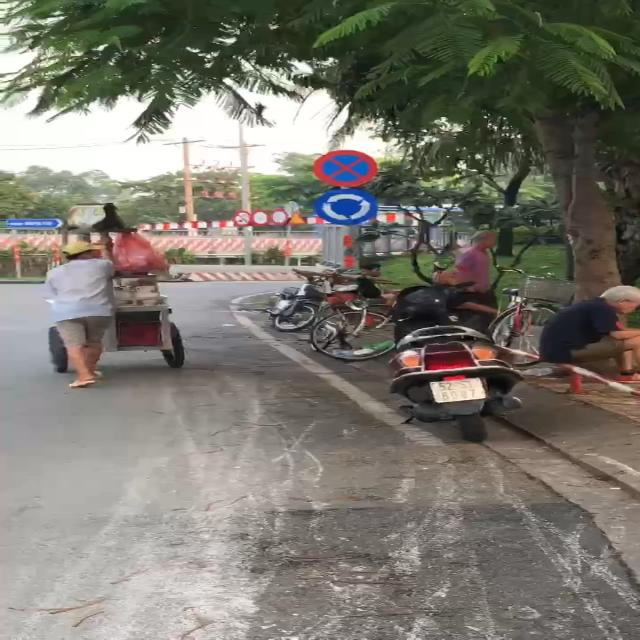Bien bao cam dung xe va do xe: (306, 148, 382, 188)
Bien bao noi giao nhau chay theo vong xuyen: (308, 187, 391, 228)
